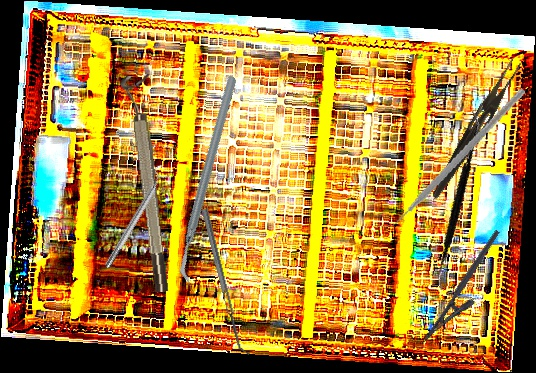Chopper: (110, 73, 308, 287), (375, 64, 526, 252)
Dressing Forceps: (429, 54, 523, 204)
Fixation Ring: (119, 74, 173, 294), (98, 162, 174, 272)
Needle Holder: (421, 229, 516, 352)
Spatula Surgical: (386, 110, 527, 291), (201, 206, 251, 358)
